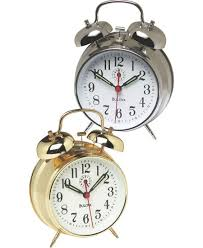alarm_clock: (25, 0, 174, 246), (25, 7, 174, 246)
